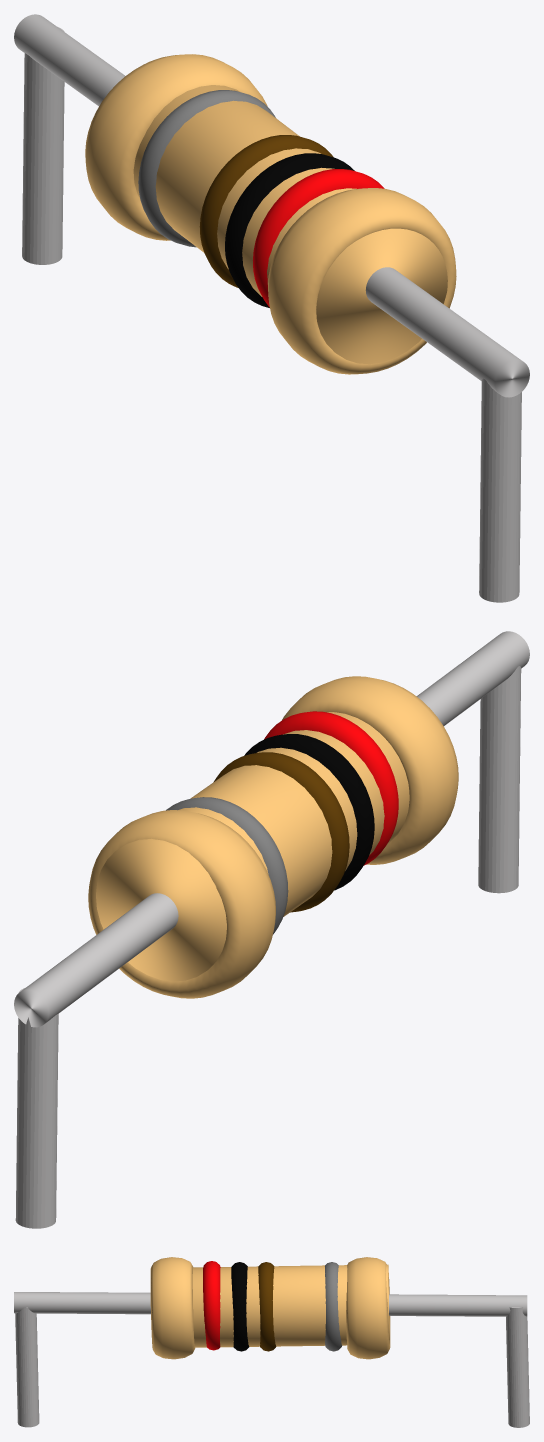
File: Resistor 200.fbx
3 views of the same model, one above another, from view 1: azimuth 30°, elevation 25°; view 2: azimuth 150°, elevation 25°; view 3: azimuth 270°, elevation 25° (orthographic). The views are drawn at different scales.
Parts seen in each view (by area): view 1: Torus.001, Cylinder.001, Cylinder.002, Cylinder.004; view 2: Torus.001, Cylinder.001, Cylinder.002, Cylinder.004; view 3: Torus.001, Cylinder.001, Cylinder.004, Cylinder.002.
Part boxes in pixels (x1,y1,x2,y2): Torus.001: (85, 54, 456, 374); Cylinder.001: (14, 14, 529, 397); Cylinder.002: (479, 378, 521, 602); Cylinder.004: (22, 27, 64, 264); Torus.001: (88, 676, 458, 998); Cylinder.001: (14, 631, 529, 1027); Cylinder.002: (478, 666, 521, 893); Cylinder.004: (15, 988, 58, 1228); Torus.001: (150, 1257, 390, 1359); Cylinder.001: (14, 1292, 527, 1316); Cylinder.004: (506, 1307, 529, 1427); Cylinder.002: (15, 1307, 39, 1427).
Size of the model in its own units: 147 by 247 by 719.
